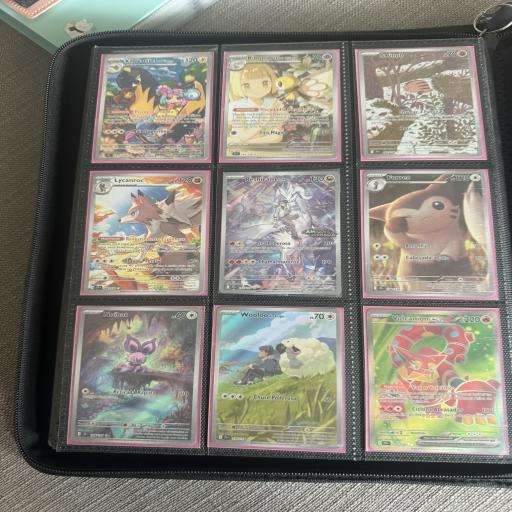card: (367, 307, 506, 456), (210, 304, 348, 449), (70, 303, 202, 445), (362, 171, 495, 297), (219, 169, 342, 295), (83, 173, 208, 295), (358, 47, 484, 161), (94, 52, 212, 161), (222, 50, 337, 159)
